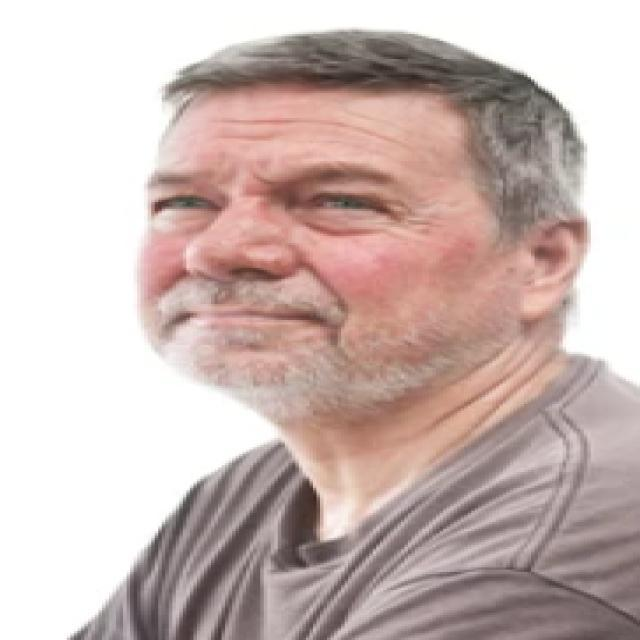face_no_mask: (127, 87, 585, 382)
